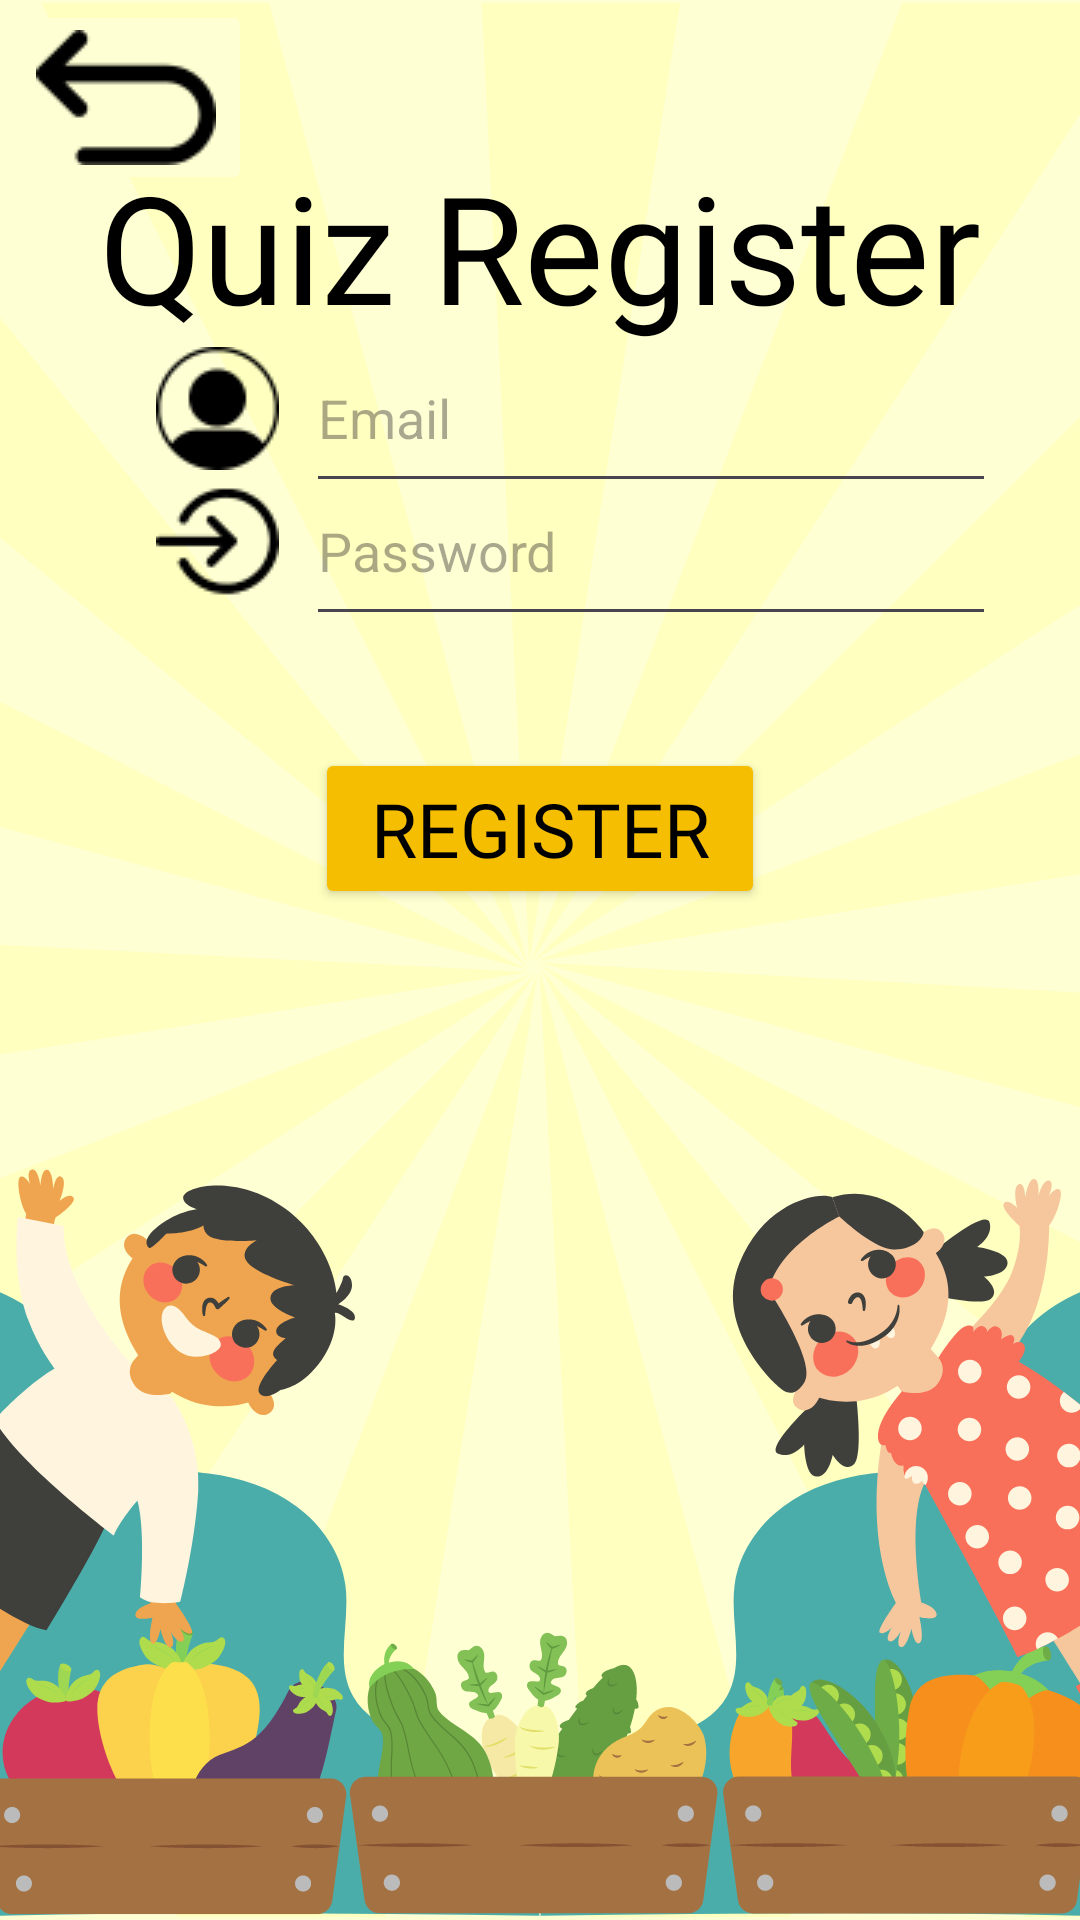

Screen size 1080x1920. Icon name, then its box in pixels as (x1, y1, x2, y2):
Back: (36, 30, 216, 165)
